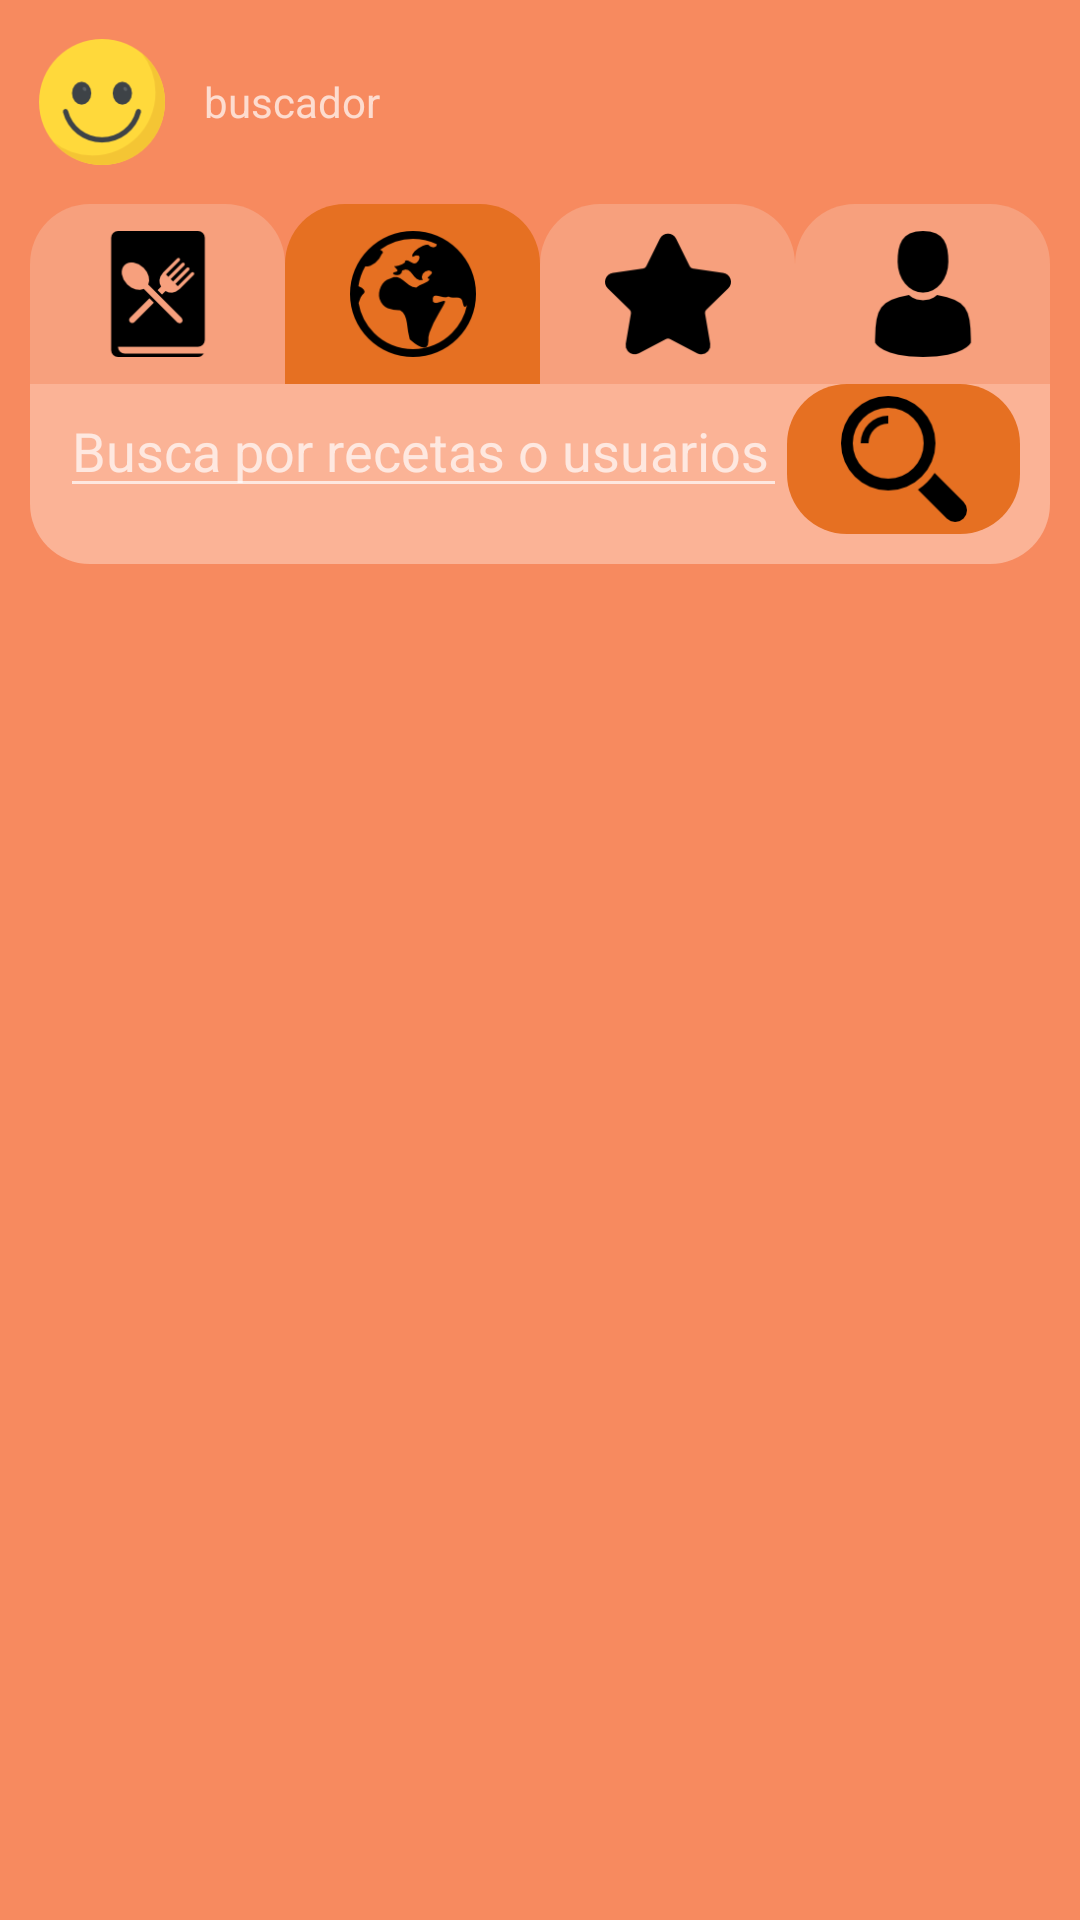

Where to tap for icons on this 1080x1920 app screen, as point (x, y):
favorito: point (667, 294)
lupa: point (903, 459)
